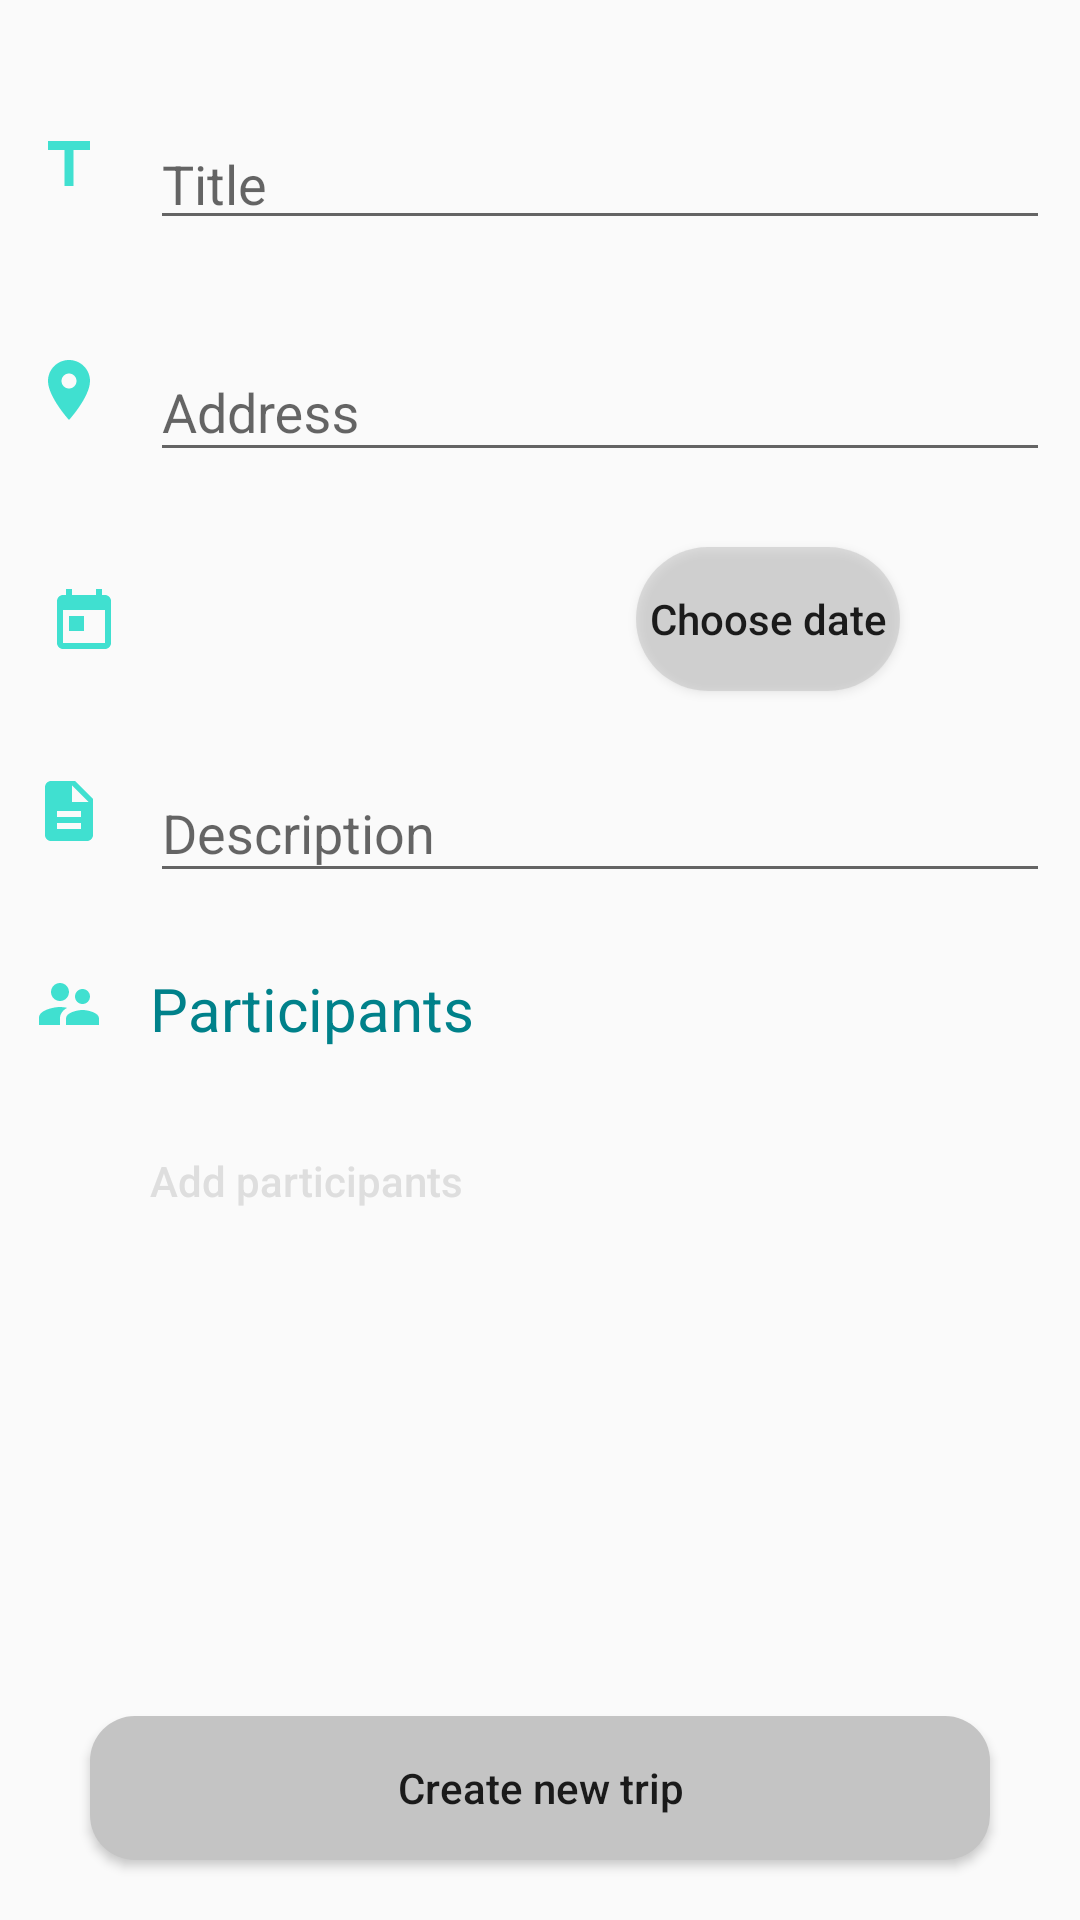

Icon bounding boxes for this 1080 x 1920 phone screenshot, format (x1, y1, x2, y2):
location on turquoise: (48, 360, 90, 420)
today turquoise: (57, 589, 111, 649)
